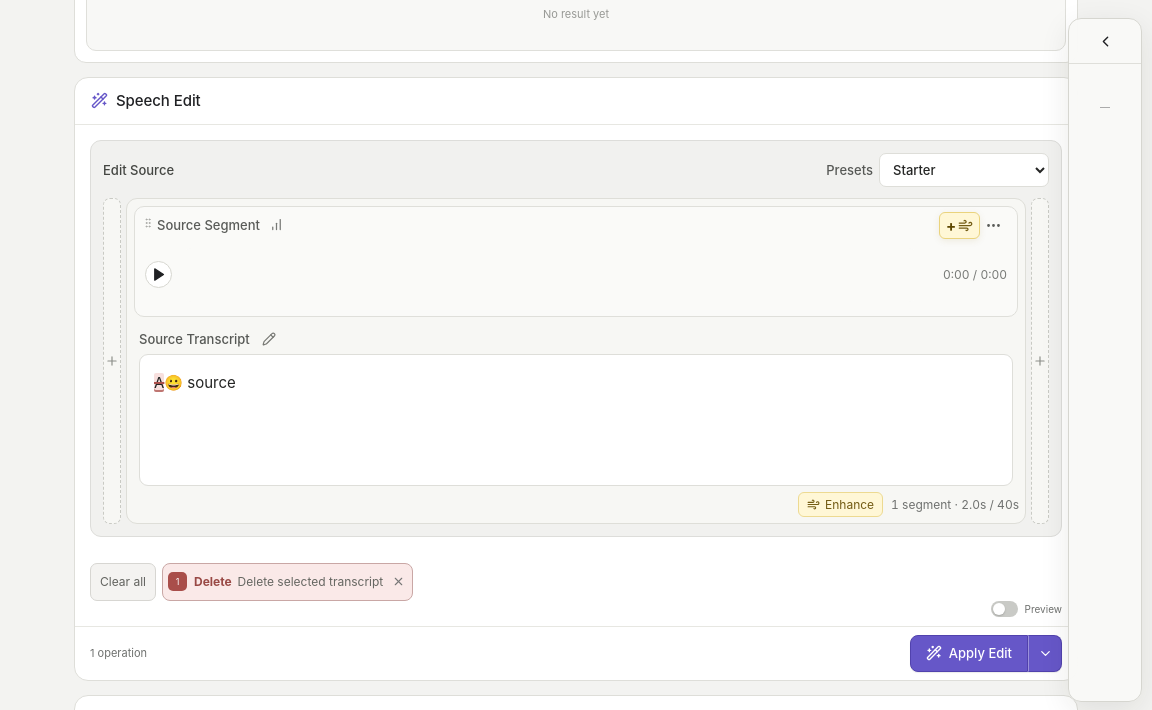
Test case: Studio layout › opens the preset and revision library from segment gaps when uploads are disabled
(page scrolled)
Click the button named "Insert audio" at (112, 361), box [103,198,121,524]
(page scrolled)
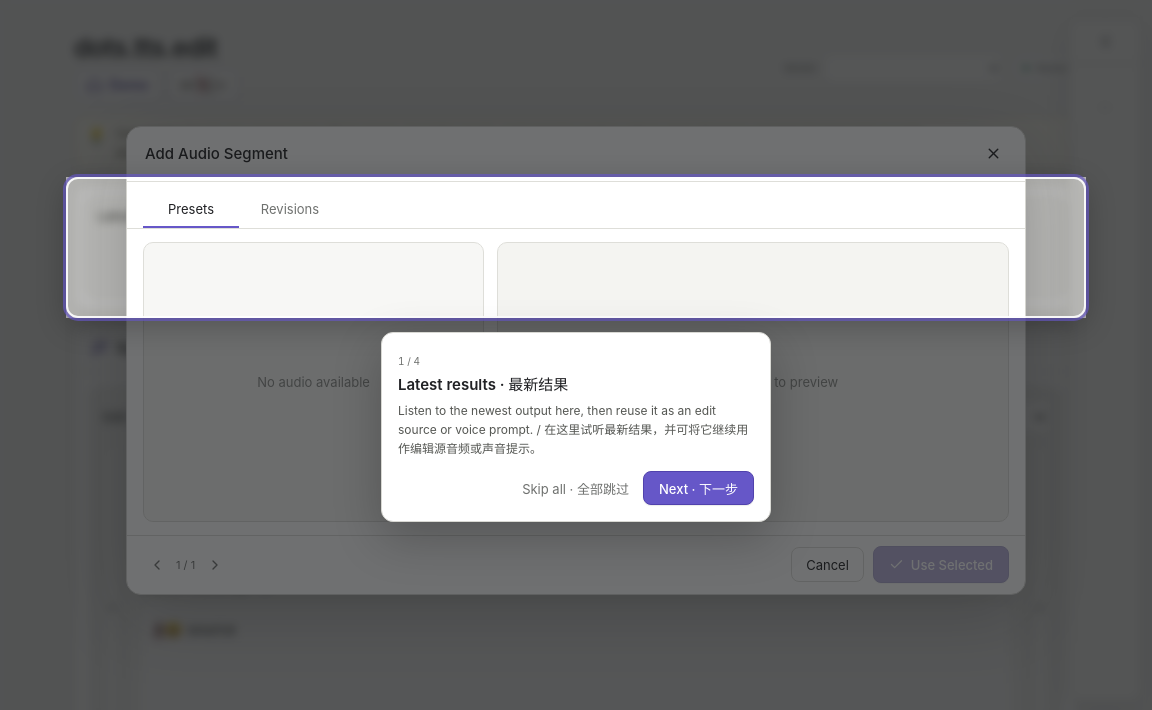
Result: the tab "Presets" is shown at [143,192,239,228]
Result: the tab "Revisions" is shown at [242,192,338,228]
